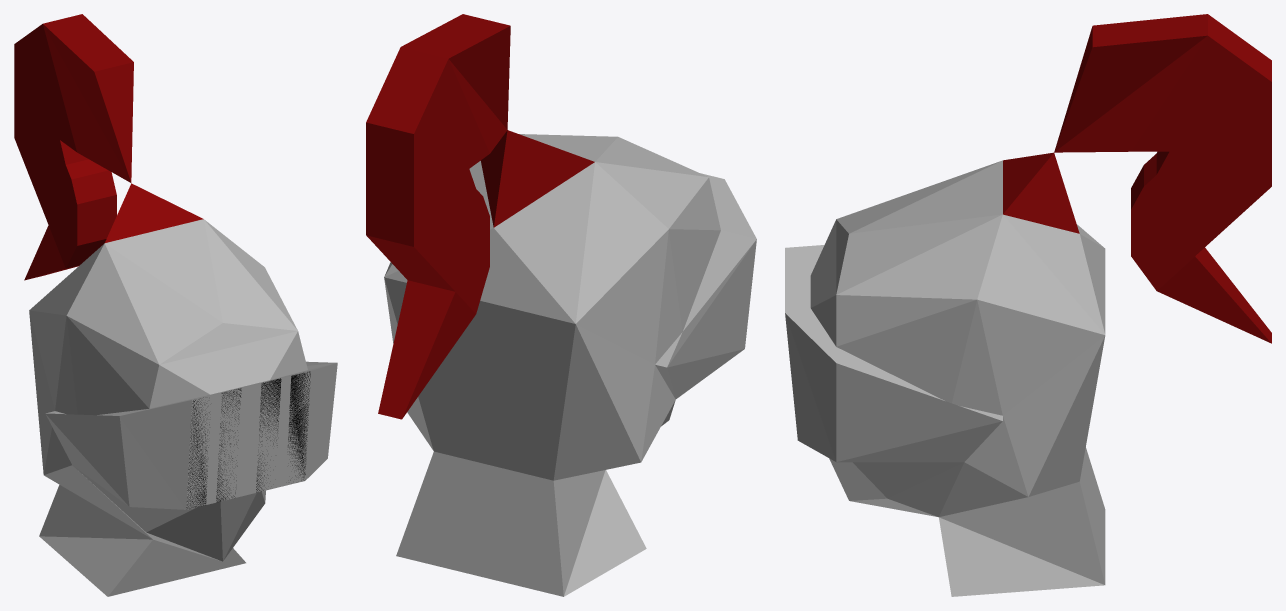
Rendered from armour-helm.glb.
The picture shows the model from 3 angles, left to right: view 1: azimuth 30°, elevation 25°; view 2: azimuth 150°, elevation 25°; view 3: azimuth 270°, elevation 25°; orthographic projection. The views are drawn at different scales.
Parts seen in each view (by area): view 1: runescapemodel; view 2: runescapemodel; view 3: runescapemodel.
Boxes of the visible parts, box(x1,y1,x2,y2) form: runescapemodel: box(14, 14, 337, 596); runescapemodel: box(366, 14, 756, 596); runescapemodel: box(785, 14, 1271, 596).
Bounding box in the file's own units: 22 × 46 × 38.
